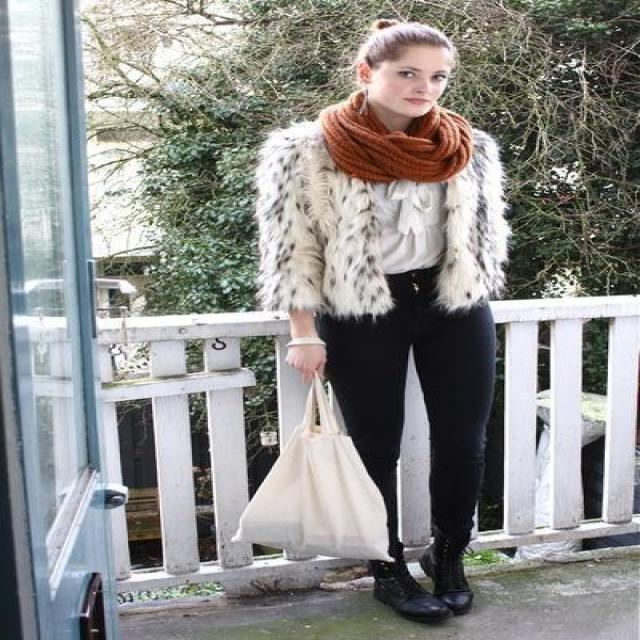bag: (250, 378, 394, 563)
jacket: (250, 120, 515, 318)
pants: (314, 269, 508, 546)
shoe: (365, 542, 472, 627)
